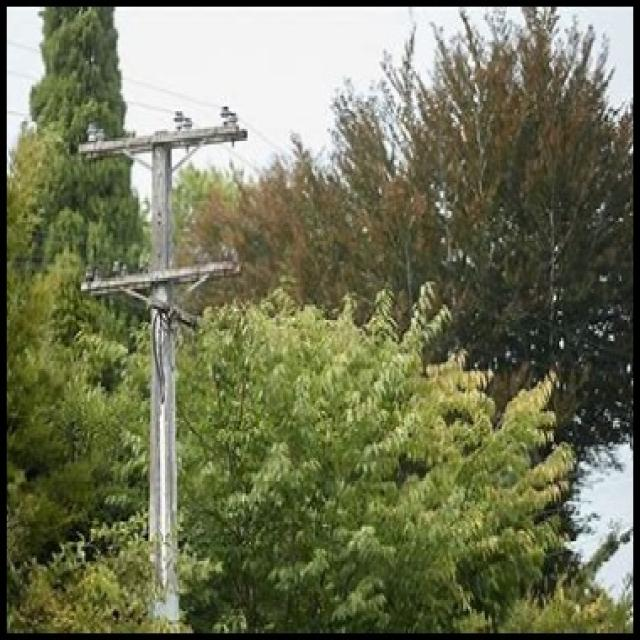utility poles: (50, 83, 257, 625)
